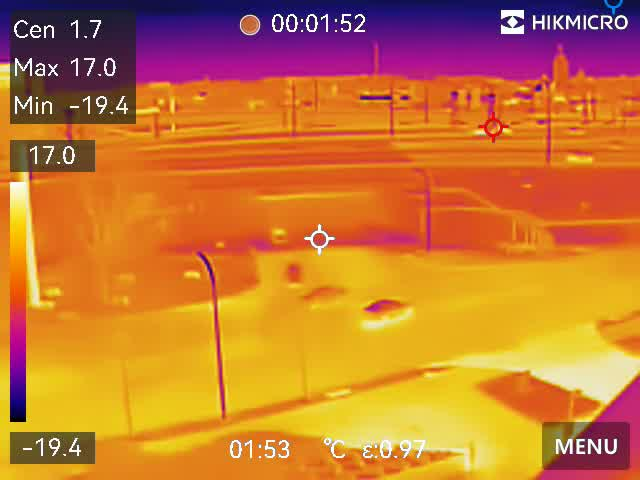smallCar: (358, 296, 420, 325), (299, 285, 349, 308)
vehicle: (279, 256, 303, 293), (266, 221, 290, 250), (565, 148, 592, 166)
